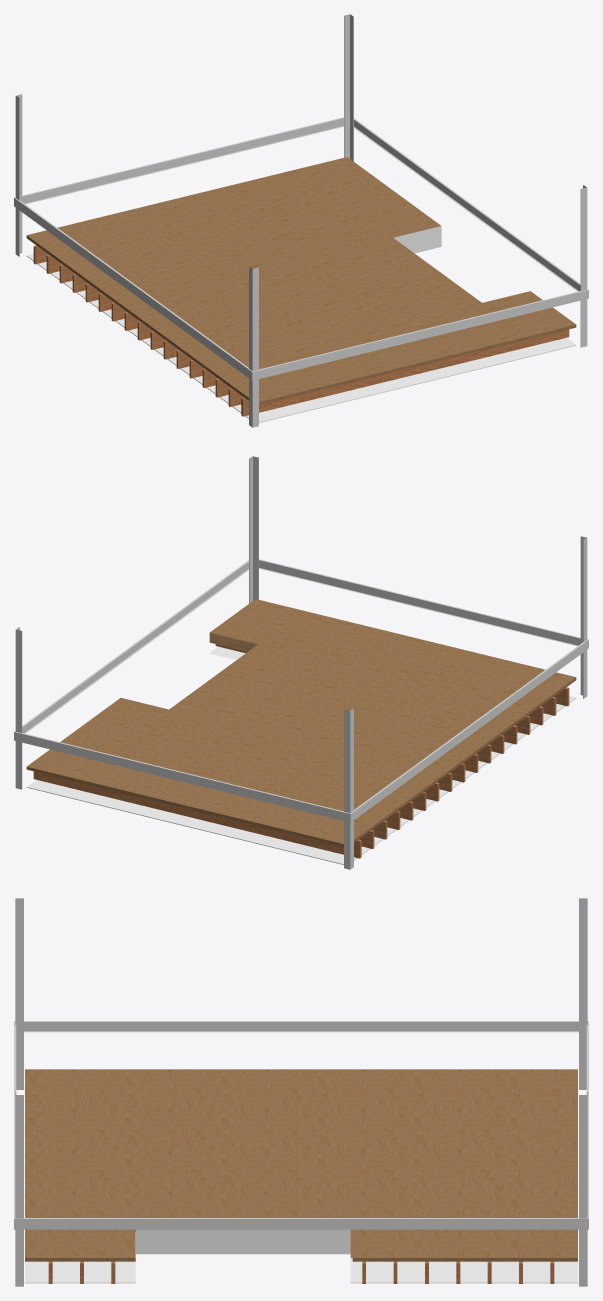
The model's file is 2storey_20x24_FFBlock.glb.
3 views of the same model, one above another, from view 1: azimuth 30°, elevation 25°; view 2: azimuth 150°, elevation 25°; view 3: azimuth 270°, elevation 25° (orthographic). The views are drawn at different scales.
Parts seen in each view (by area): view 1: FF_floorfinish, trims, FF_framing, GF_ceiling, FF- interior wall; view 2: FF_floorfinish, trims, FF_framing, GF_ceiling; view 3: FF_floorfinish, trims, GF_ceiling, FF- interior wall, FF_framing.
Part boxes in pixels (x1,y1,x2,y2): FF_floorfinish: (26, 157, 576, 404); trims: (14, 14, 588, 427); FF_framing: (33, 245, 569, 416); GF_ceiling: (26, 254, 576, 422); FF- interior wall: (393, 226, 441, 253); FF_floorfinish: (26, 599, 576, 846); trims: (14, 456, 588, 869); FF_framing: (33, 644, 569, 858); GF_ceiling: (26, 646, 576, 864); FF_floorfinish: (25, 1069, 577, 1261); trims: (14, 898, 588, 1286); GF_ceiling: (25, 1232, 577, 1283); FF- interior wall: (136, 1229, 350, 1253); FF_framing: (48, 1261, 554, 1283).
Bounding box in the file's own units: 6.18 × 2.79 × 7.58.
Materials: 6 (3 with a texture image).
